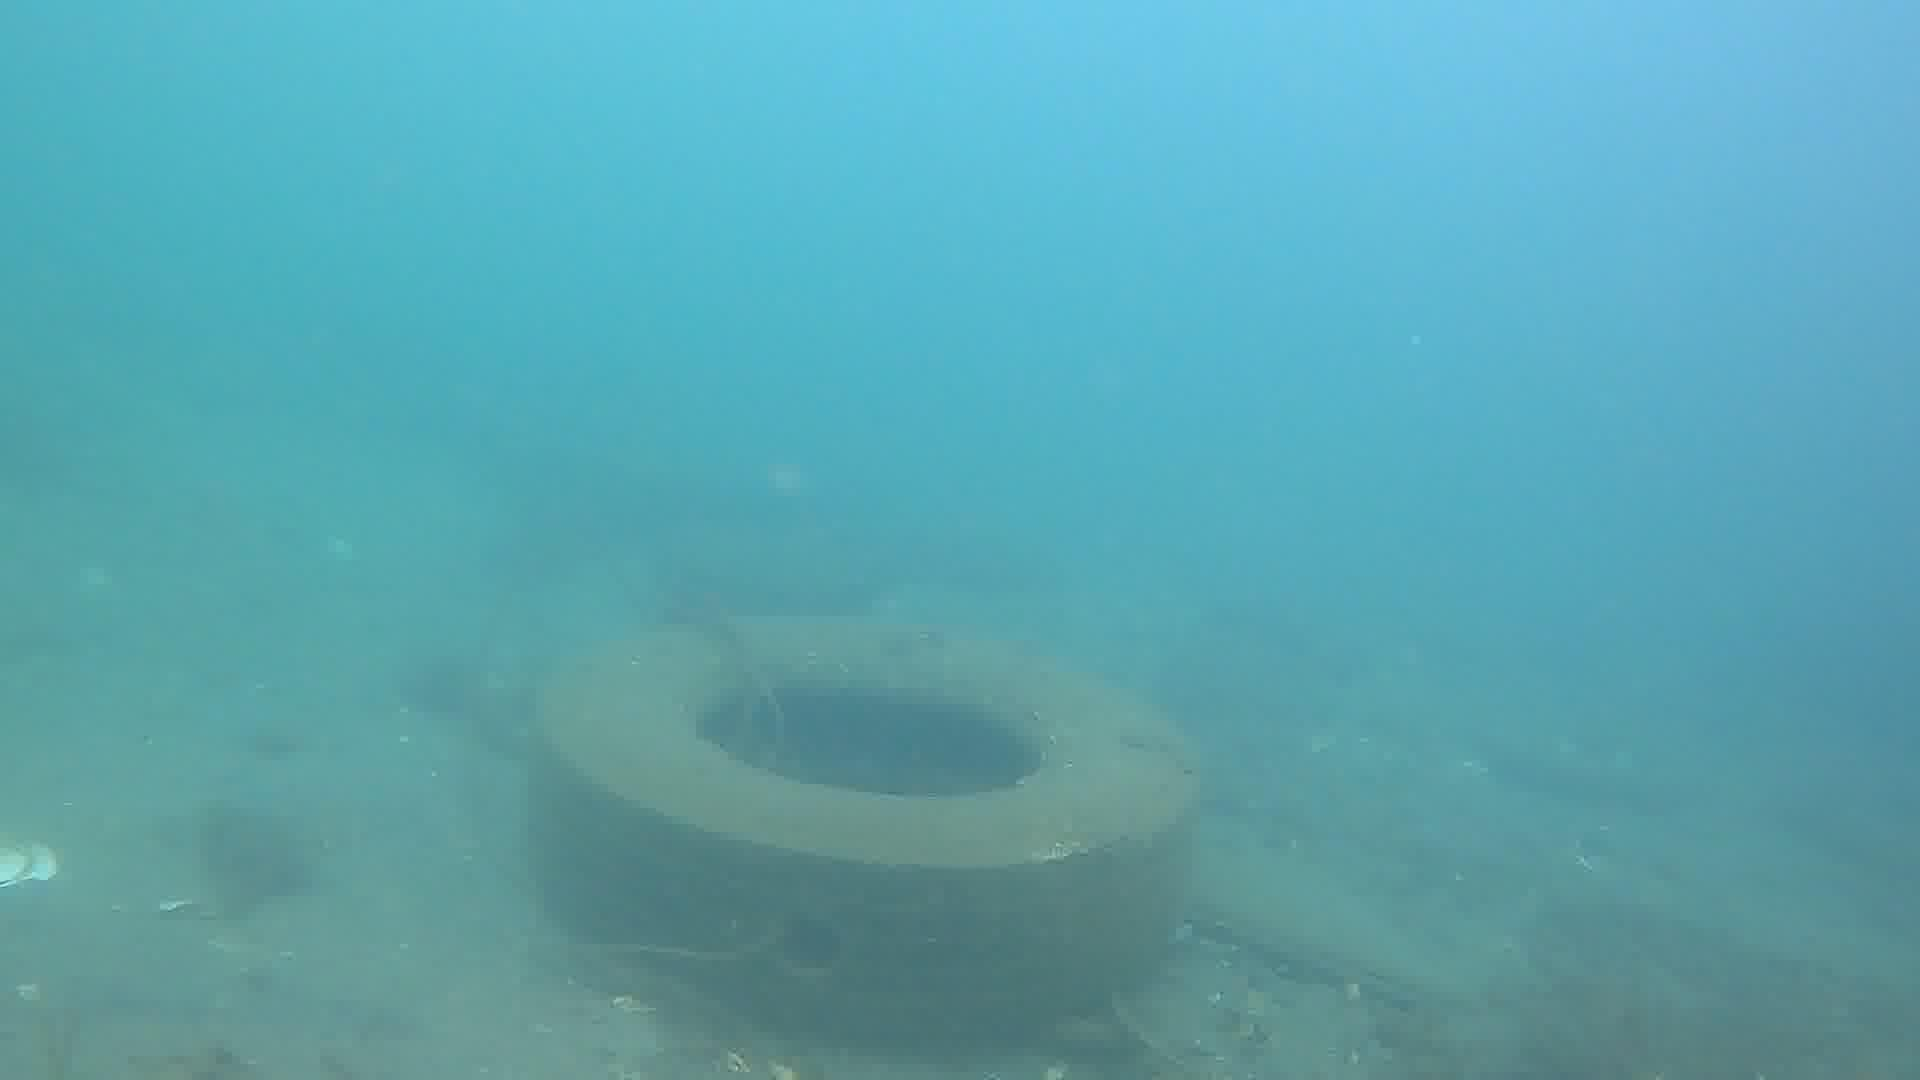tire: (520, 599, 1185, 993)
